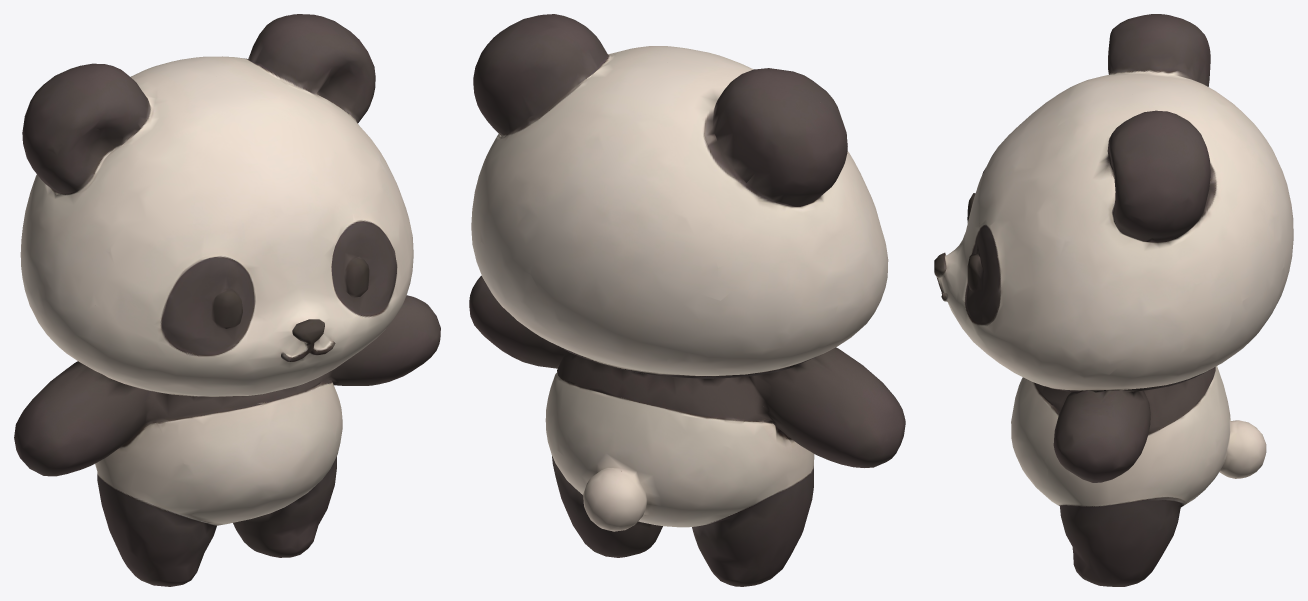
The model's file is panda.glb.
3 views of the same model, side by side, from view 1: azimuth 30°, elevation 25°; view 2: azimuth 150°, elevation 25°; view 3: azimuth 270°, elevation 25° (orthographic). The views are drawn at different scales.
Visible parts, largest first — view 1: tripo_node_2743625a-ecf6-45f2-a964-1d22512e3052; view 2: tripo_node_2743625a-ecf6-45f2-a964-1d22512e3052; view 3: tripo_node_2743625a-ecf6-45f2-a964-1d22512e3052.
Boxes of the visible parts, x1=… form: tripo_node_2743625a-ecf6-45f2-a964-1d22512e3052: x1=14, y1=14, x2=440, y2=586; tripo_node_2743625a-ecf6-45f2-a964-1d22512e3052: x1=469, y1=14, x2=905, y2=586; tripo_node_2743625a-ecf6-45f2-a964-1d22512e3052: x1=934, y1=14, x2=1293, y2=586.
Bounding box in the file's own units: 0.8491 × 1 × 0.672.
1 material, 1 textured.
